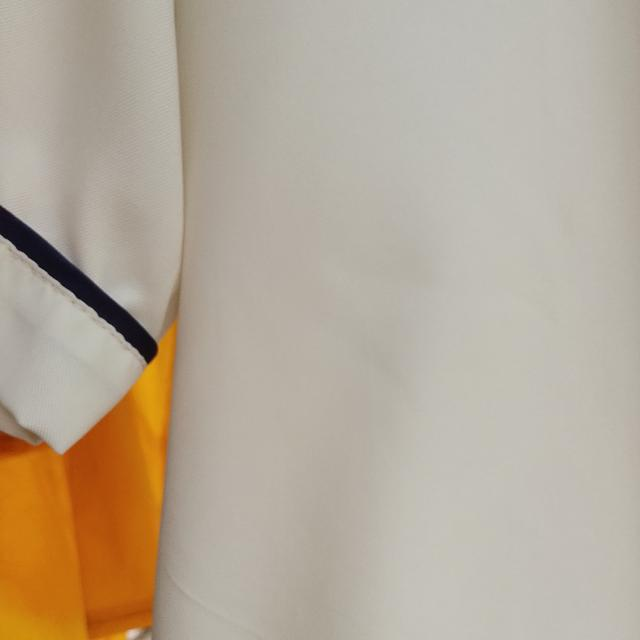education_male_uniform: (1, 1, 381, 492)
